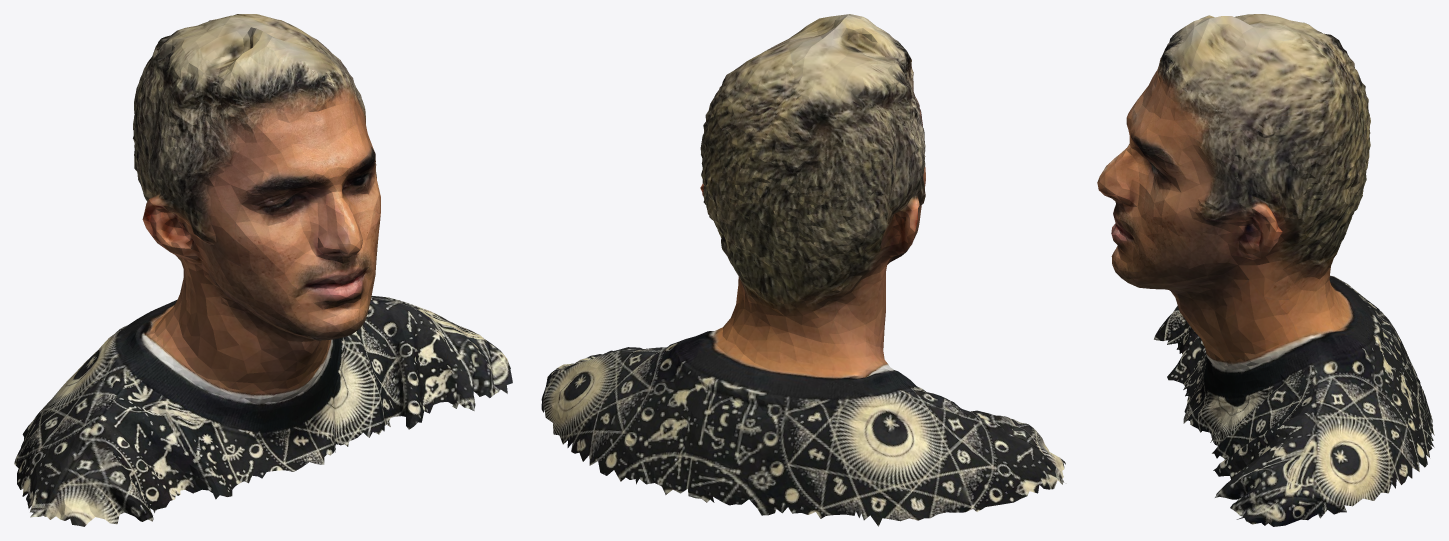
File: Talha.glb
3 renders of one model, left to right at view 1: azimuth 30°, elevation 25°; view 2: azimuth 150°, elevation 25°; view 3: azimuth 270°, elevation 25°, orthographic. The views are drawn at different scales.
Parts seen in each view (by area): view 1: Mesh_0; view 2: Mesh_0; view 3: Mesh_0.
Boxes of the visible parts, x1=… form: Mesh_0: x1=14, y1=14, x2=512, y2=526; Mesh_0: x1=541, y1=14, x2=1066, y2=526; Mesh_0: x1=1097, y1=14, x2=1434, y2=526.
Size of the model in its own units: 1.76 by 1.42 by 1.11.
Materials: 1 (1 with a texture image).
